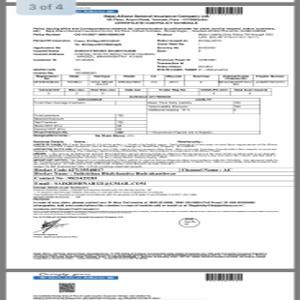table: (32, 97, 260, 139), (33, 73, 289, 86), (33, 86, 271, 98)
text: (29, 26, 277, 73), (32, 139, 280, 169), (31, 248, 269, 265), (103, 13, 211, 25)
